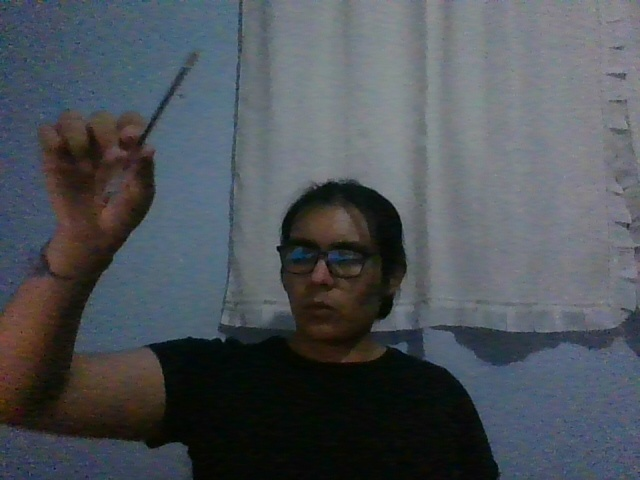pluma: (96, 49, 202, 209)
